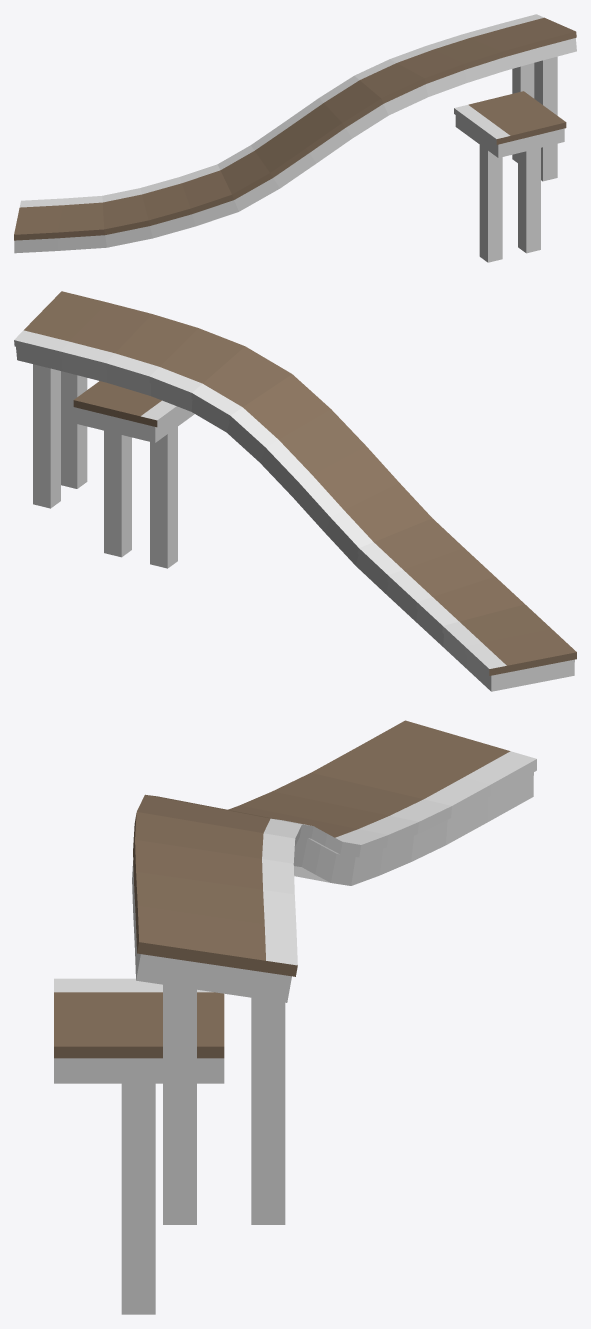
File: HighwayStop_RHighway.fbx
3 views of the same model, one above another, from view 1: azimuth 30°, elevation 25°; view 2: azimuth 150°, elevation 25°; view 3: azimuth 270°, elevation 25° (orthographic). The views are drawn at different scales.
Visible parts, largest first — view 1: Platform, PlatformSide, Pillar.003, Pillar.001; view 2: Platform, Pillar.003, Pillar.001, PlatformSide; view 3: Platform, Pillar.001, PlatformSide, Pillar.003.
Boxes of the visible parts, left/top/right/bottom form: Platform: left=14, top=14, right=576, bottom=253; PlatformSide: left=454, top=91, right=566, bottom=157; Pillar.003: left=479, top=145, right=540, bottom=262; Pillar.001: left=512, top=56, right=557, bottom=181; Platform: left=14, top=291, right=576, bottom=691; Pillar.003: left=104, top=427, right=177, bottom=568; Pillar.001: left=33, top=364, right=87, bottom=508; PlatformSide: left=73, top=381, right=194, bottom=442; Platform: left=132, top=720, right=536, bottom=1002; Pillar.001: left=163, top=984, right=285, bottom=1224; PlatformSide: left=54, top=978, right=224, bottom=1083; Pillar.003: left=121, top=1083, right=155, bottom=1314.
Bounding box in the file's own units: 26.91 × 10.66 × 11.35.
